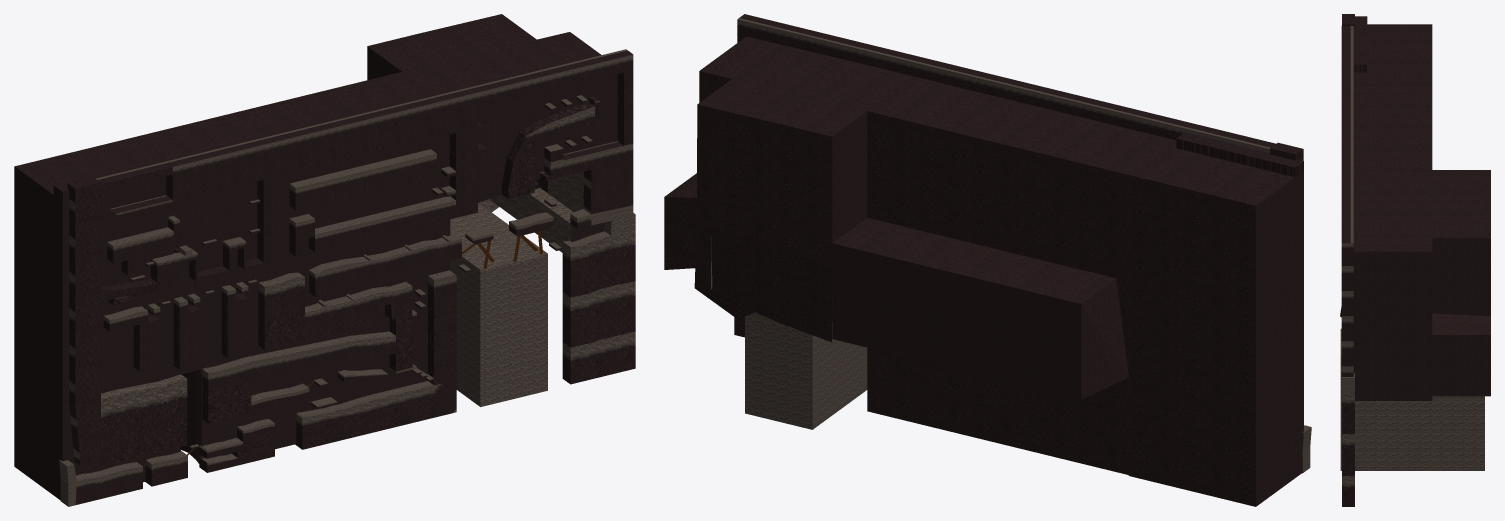
Rendered from Lamplight_Level.FBX.
3 views of the same model, side by side, from view 1: azimuth 30°, elevation 25°; view 2: azimuth 150°, elevation 25°; view 3: azimuth 270°, elevation 25° (orthographic). The views are drawn at different scales.
Parts seen in each view (by area): view 1: Background, Box017, Box022, Level, Box012, Box013, Box004, Box034, Box014, Box018, Box001, Box003 (+6 smaller); view 2: Background, Box017, Box012; view 3: Background, Box012, Box017, Box013.
Boxes of the visible parts, bbox=[...] form: Background: bbox=[14, 14, 617, 500]; Box017: bbox=[96, 49, 633, 293]; Box022: bbox=[67, 177, 187, 466]; Level: bbox=[200, 272, 416, 423]; Box012: bbox=[450, 203, 547, 406]; Box013: bbox=[562, 213, 635, 384]; Box004: bbox=[295, 270, 456, 449]; Box034: bbox=[289, 149, 436, 210]; Box014: bbox=[309, 233, 461, 296]; Box018: bbox=[502, 96, 599, 198]; Box001: bbox=[59, 460, 142, 506]; Box003: bbox=[199, 419, 274, 472]; Background: bbox=[664, 36, 1303, 506]; Box017: bbox=[737, 14, 1275, 153]; Box012: bbox=[745, 312, 867, 429]; Background: bbox=[1353, 16, 1490, 400]; Box012: bbox=[1340, 328, 1484, 470]; Box017: bbox=[1341, 26, 1353, 376]; Box013: bbox=[1342, 373, 1354, 506].
Bounding box in the file's own units: 2624 × 1396 × 722.
